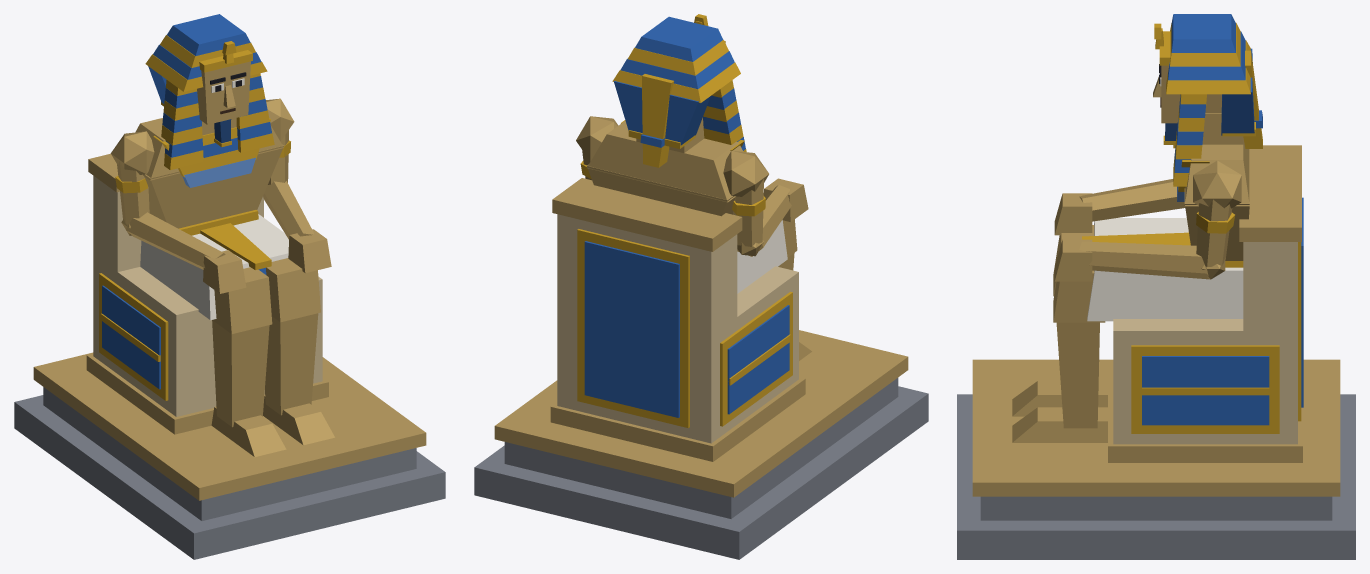
The model's file is egyptian-statue.glb.
3 views of the same model, side by side, from view 1: azimuth 30°, elevation 25°; view 2: azimuth 150°, elevation 25°; view 3: azimuth 270°, elevation 25° (orthographic). The views are drawn at different scales.
Visible parts, largest first — view 1: plinth_mid_grey, plinth_sand_dark, legs_sand_dark, throne_sand, torso_sand_dark, arms_sand_dark, nemes_gold, nemes_lapis_blue, kilt_warm_white, throne_sand_dark, throne_lapis_blue, head_sand_dark (+4 smaller); view 2: plinth_mid_grey, plinth_sand_dark, throne_lapis_blue, throne_sand, throne_sand_dark, torso_sand_dark, throne_gold, nemes_lapis_blue, nemes_gold, arms_sand_dark, kilt_warm_white, legs_sand_dark; view 3: plinth_mid_grey, plinth_sand_dark, throne_sand, arms_sand_dark, legs_sand_dark, throne_sand_dark, throne_lapis_blue, kilt_warm_white, throne_gold, nemes_lapis_blue, nemes_gold, torso_sand_dark (+3 smaller).
Boxes of the visible parts, box(x1,y1,x2,y2) form: plinth_mid_grey: box(14, 387, 445, 559); plinth_sand_dark: box(33, 352, 426, 500); legs_sand_dark: box(211, 258, 334, 456); throne_sand: box(93, 176, 322, 416); torso_sand_dark: box(111, 98, 294, 228); arms_sand_dark: box(117, 130, 331, 293); nemes_gold: box(145, 35, 274, 170); nemes_lapis_blue: box(148, 14, 271, 157); kilt_warm_white: box(140, 214, 288, 320); throne_sand_dark: box(86, 153, 328, 434); throne_lapis_blue: box(102, 285, 160, 389); head_sand_dark: box(197, 61, 250, 135); plinth_mid_grey: box(474, 378, 928, 559); plinth_sand_dark: box(494, 330, 908, 497); throne_lapis_blue: box(584, 241, 789, 417); throne_sand: box(557, 214, 798, 443); throne_sand_dark: box(550, 178, 805, 461); torso_sand_dark: box(576, 116, 768, 216); throne_gold: box(577, 229, 792, 428); nemes_lapis_blue: box(614, 16, 745, 150); nemes_gold: box(612, 14, 746, 167); arms_sand_dark: box(582, 150, 808, 256); kilt_warm_white: box(737, 220, 787, 293); legs_sand_dark: box(778, 219, 811, 360); plinth_mid_grey: box(957, 394, 1355, 559); plinth_sand_dark: box(972, 359, 1340, 496); throne_sand: box(1113, 242, 1297, 444); arms_sand_dark: box(1054, 179, 1232, 281); legs_sand_dark: box(1012, 225, 1107, 442); throne_sand_dark: box(1108, 145, 1302, 462); throne_lapis_blue: box(1142, 197, 1303, 425); kilt_warm_white: box(1087, 218, 1243, 321); throne_gold: box(1131, 242, 1301, 433); nemes_lapis_blue: box(1168, 14, 1262, 172); nemes_gold: box(1154, 23, 1262, 186); torso_sand_dark: box(1184, 138, 1249, 260).
Bounding box in the file's own units: 2.48 × 3.96 × 3.07.
